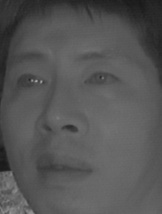eye: (83, 67, 119, 90), (15, 70, 48, 94)
mouth: (32, 147, 97, 188)
